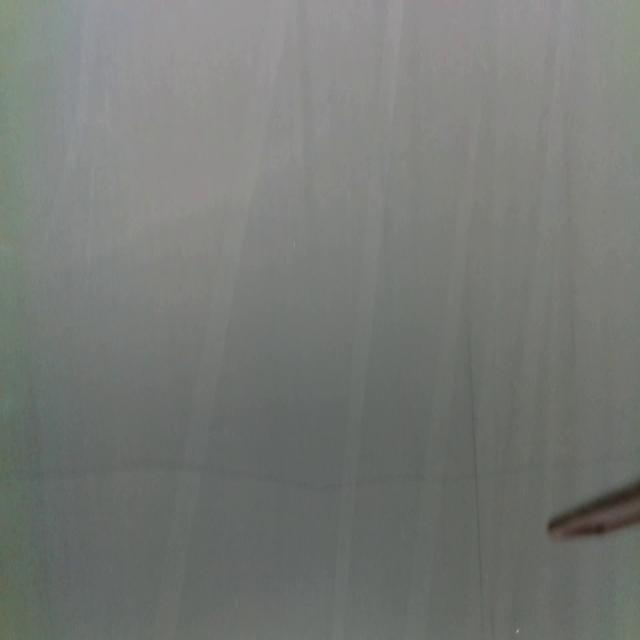color bleeding: (0, 444, 636, 494)
crease: (153, 2, 291, 640), (331, 0, 403, 638), (404, 115, 478, 640), (466, 334, 487, 636)
